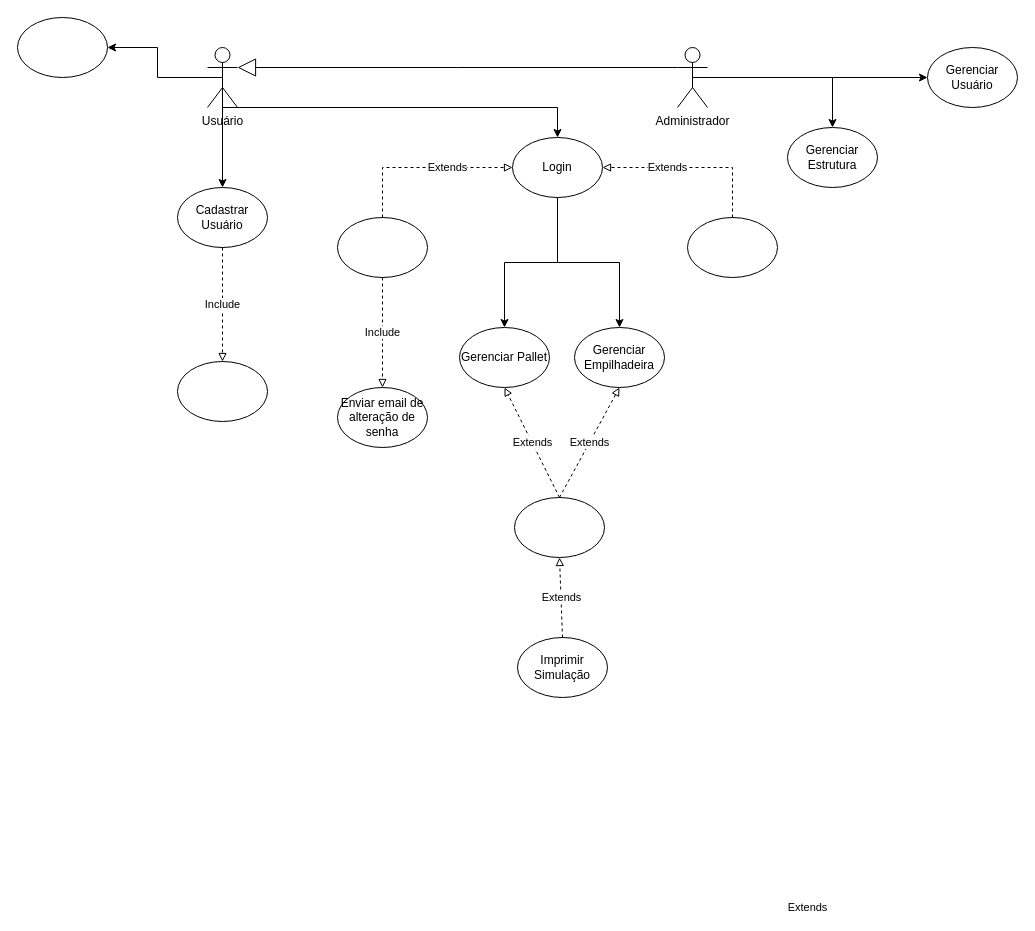
Image size: 1035x931. Some labels were removed from this diagram. The shapes that lost their labels are listed below. From the top down, each one's box as (x1, y1, x2, y2) in pixels, then its label:
(16, 16, 108, 78): Editar Perfil
(336, 216, 428, 278): Alterar Senha
(686, 216, 778, 278): Fazer Logout
(176, 360, 268, 422): Confirmar email
(514, 496, 604, 558): Fazer Simulação
